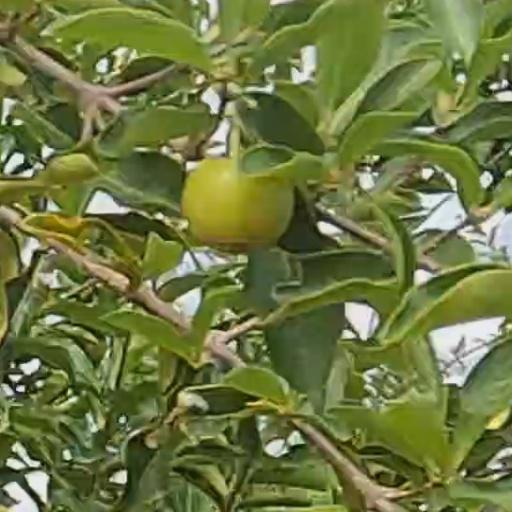acerola: (186, 161, 293, 252)
